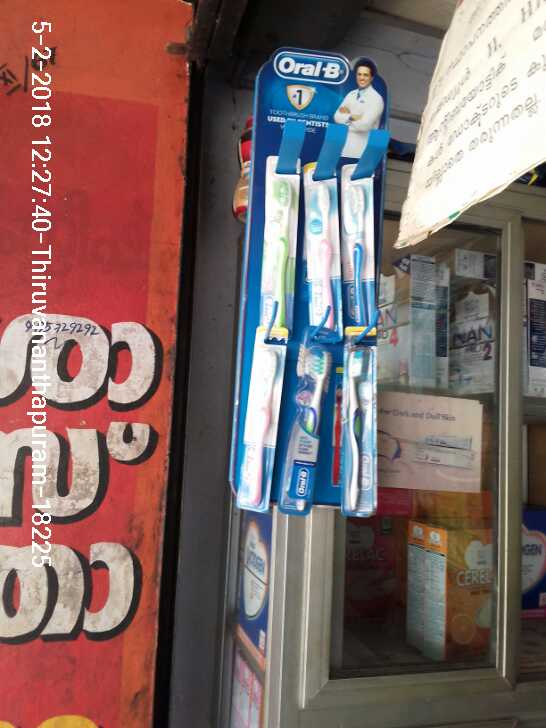oralb: (283, 329, 330, 520), (299, 160, 345, 340), (240, 328, 277, 520), (344, 323, 380, 517), (263, 155, 299, 335), (343, 166, 379, 334)
